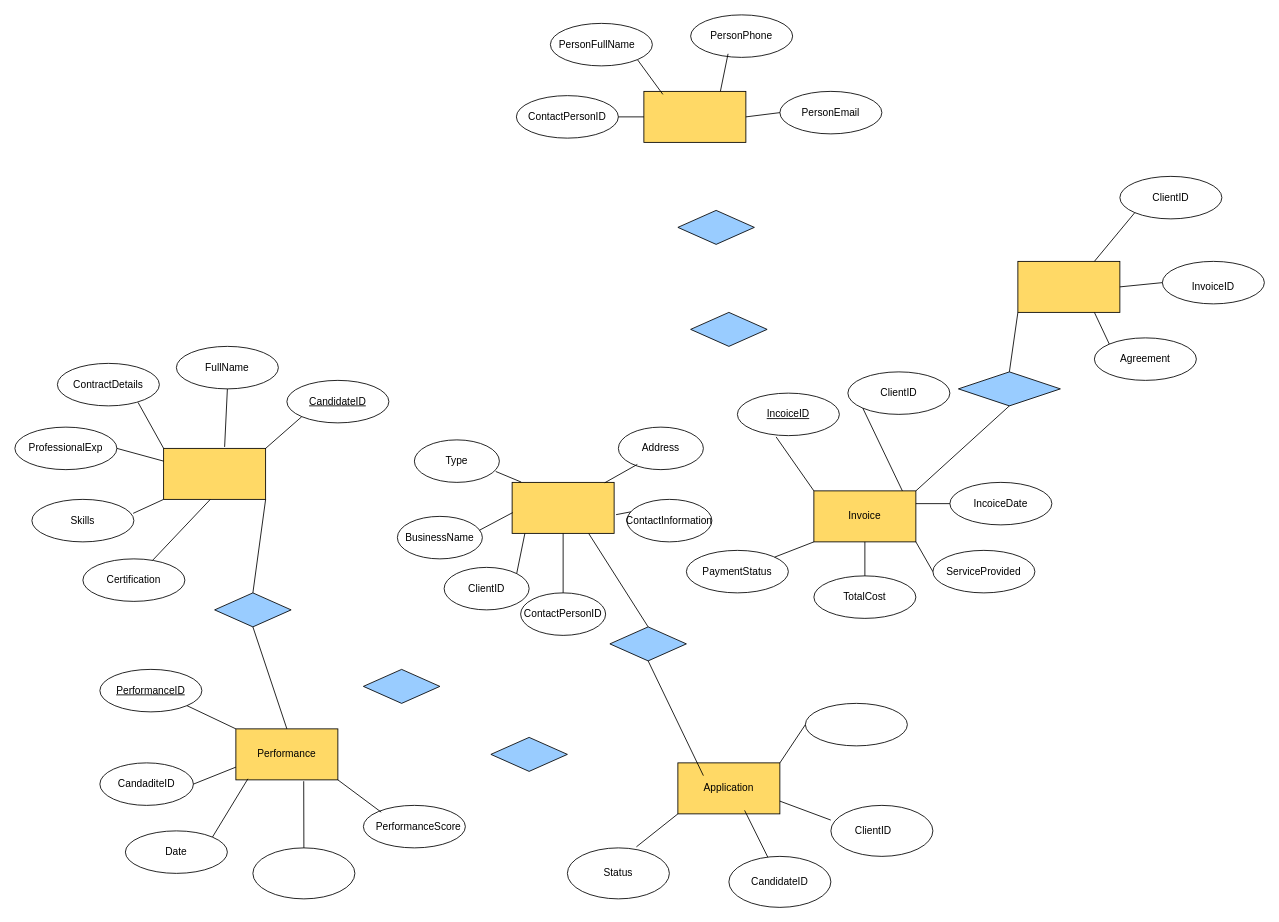
This 1279x922 diagram has some shape labels left out. Each missing label, with the centre of its shape:
ApplicationID: (856,724)
Candidate: (214,473)
Candidate_Performance: (252,609)
Client: (562,507)
Client_Application: (647,643)
Comments: (303,873)
ContactPerson: (694,116)
Contract: (1068,286)
Contract_Invoice: (1009,388)
